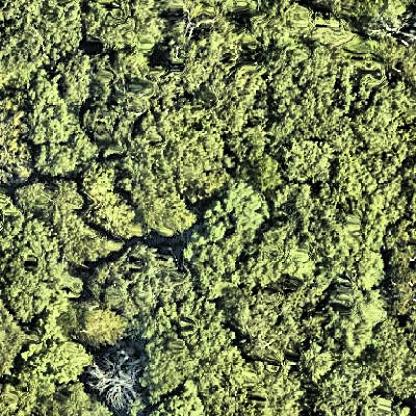tree-top: (286, 191, 380, 292), (254, 48, 350, 139), (68, 53, 165, 138), (0, 0, 90, 84), (144, 107, 227, 195), (3, 213, 72, 318), (176, 4, 250, 91), (94, 244, 180, 318), (182, 235, 276, 300), (234, 288, 309, 360), (7, 84, 66, 172), (354, 76, 413, 159), (77, 2, 173, 53), (74, 162, 140, 233), (193, 343, 250, 416), (327, 285, 386, 355), (207, 181, 273, 242), (15, 170, 88, 225), (26, 328, 94, 387), (316, 353, 379, 416), (140, 332, 200, 397), (240, 0, 316, 50), (245, 358, 310, 416), (368, 322, 416, 396), (85, 348, 144, 408), (0, 366, 63, 416), (0, 92, 32, 187), (279, 137, 336, 187), (332, 0, 416, 33), (141, 193, 201, 238), (78, 302, 130, 350), (390, 260, 416, 329), (0, 304, 24, 378)
